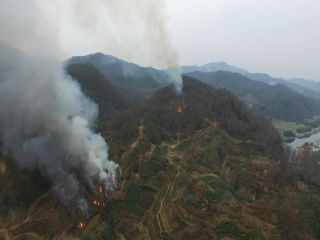smoke: (1, 2, 188, 213)
